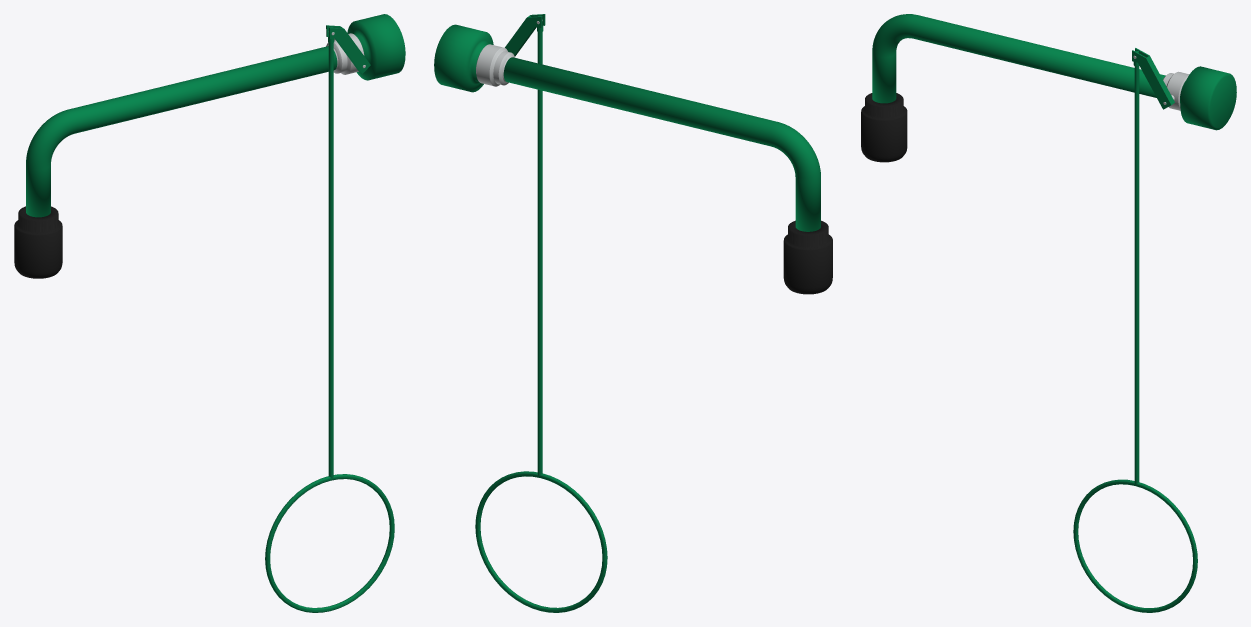
Rendered from emergency_shower.gltf.
The picture shows the model from 3 angles, left to right: view 1: azimuth 30°, elevation 25°; view 2: azimuth 150°, elevation 25°; view 3: azimuth 330°, elevation 25°; orthographic projection. The views are drawn at different scales.
Visible parts, largest first — view 1: Cylinder.169, Cylinder.171, Cylinder.168, Cube.029, Cylinder.170; view 2: Cylinder.169, Cylinder.171, Cylinder.168, Cylinder.170, Cube.029; view 3: Cylinder.169, Cylinder.171, Cylinder.168, Cube.029, Cylinder.170.
Boxes of the visible parts, x1,y1,x2,y2 form: Cylinder.169: [26, 14, 405, 217]; Cylinder.171: [265, 27, 394, 612]; Cylinder.168: [14, 206, 62, 278]; Cube.029: [326, 25, 370, 73]; Cylinder.170: [326, 33, 364, 74]; Cylinder.169: [434, 24, 820, 231]; Cylinder.171: [475, 15, 607, 612]; Cylinder.168: [783, 220, 832, 294]; Cylinder.170: [476, 44, 514, 86]; Cube.029: [505, 14, 545, 56]; Cylinder.169: [872, 14, 1236, 130]; Cylinder.171: [1073, 50, 1197, 612]; Cylinder.168: [861, 93, 907, 162]; Cube.029: [1132, 48, 1174, 109]; Cylinder.170: [1163, 71, 1189, 110].
Size of the model in its own units: 1.07 by 1.6 by 0.1603.
3 materials, 2 textured.
